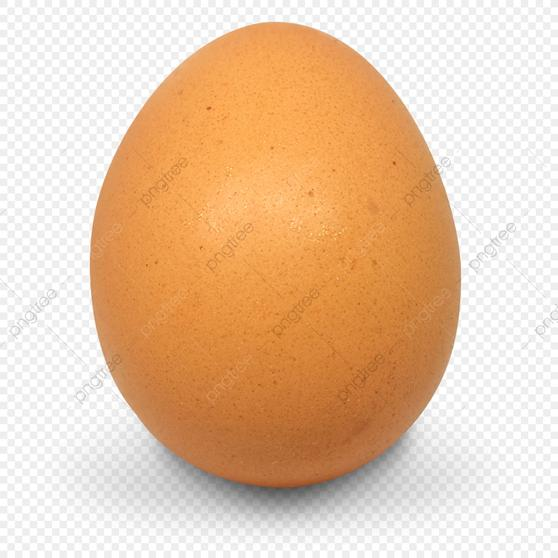egg: (81, 19, 468, 486)
